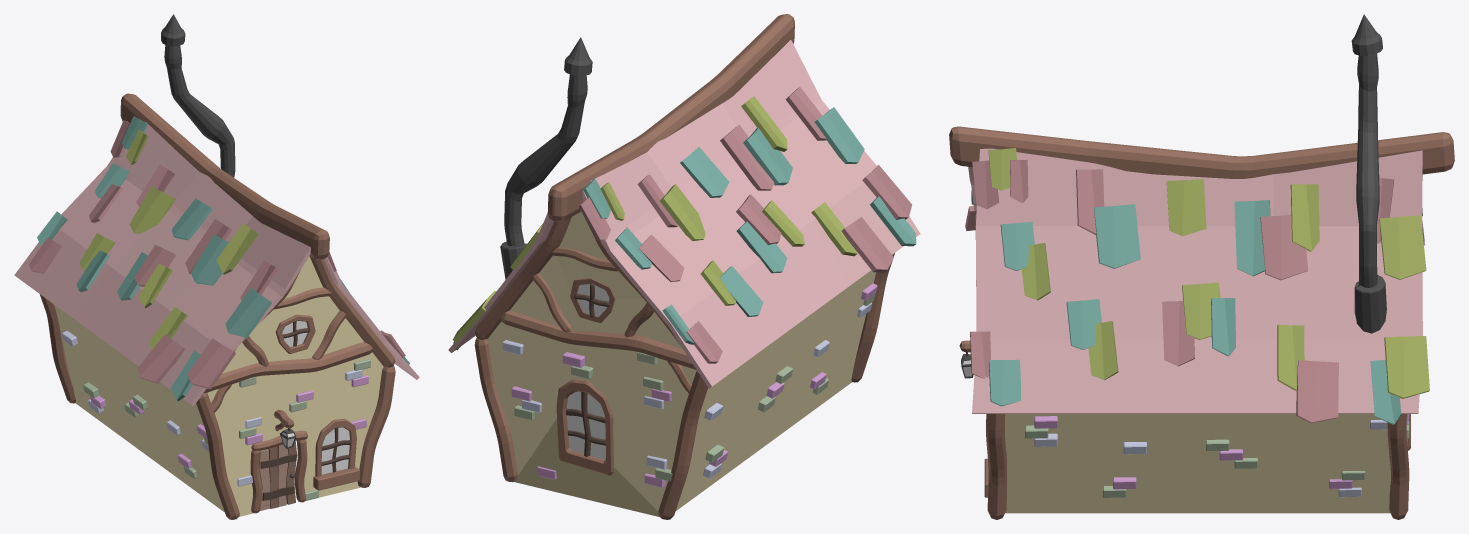
The model's file is WonkyCottage.fbx.
The picture shows the model from 3 angles, left to right: view 1: azimuth 30°, elevation 25°; view 2: azimuth 150°, elevation 25°; view 3: azimuth 270°, elevation 25°; orthographic projection. The views are drawn at different scales.
Parts seen in each view (by area): view 1: Plane.003, Plane.001, Plane.004, Cube.024, Cylinder, Cube.002, Cube.001, Cube, Cube.003, Cube.120, Cube.112, Cube.114 (+28 smaller); view 2: Plane.003, Plane.005, Plane.004, Cube.024, Cylinder, Cube.014, Cube.013, Plane.012, Cube.015, Cube.012, Plane.013, Cube.112 (+27 smaller); view 3: Plane, Plane.002, Cube.024, Cylinder, Cube.090, Cube.079, Cube.096, Cube.088, Cube.092, Cube.094, Cube.095, Cube (+18 smaller).
Part boxes in pixels (<box>): Plane.003: <box>14,122,310,406</box>; Plane.001: <box>207,256,383,516</box>; Plane.004: <box>54,305,224,512</box>; Cube.024: <box>120,93,329,259</box>; Cylinder: <box>161,14,235,177</box>; Cube.002: <box>205,342,373,392</box>; Cube.001: <box>196,393,239,519</box>; Cube: <box>357,365,395,487</box>; Cube.003: <box>310,257,395,367</box>; Cube.120: <box>187,338,235,389</box>; Cube.112: <box>137,334,184,383</box>; Cube.114: <box>225,288,271,338</box>; Plane.003: <box>582,40,920,388</box>; Plane.005: <box>487,211,696,516</box>; Plane.004: <box>676,270,876,510</box>; Cube.024: <box>547,14,794,221</box>; Cylinder: <box>500,37,592,279</box>; Cube.014: <box>500,310,696,369</box>; Cube.013: <box>658,370,708,519</box>; Plane.012: <box>556,379,613,475</box>; Cube.015: <box>475,217,571,339</box>; Cube.012: <box>474,338,517,482</box>; Plane.013: <box>566,391,605,459</box>; Cube.112: <box>841,217,893,272</box>; Plane: <box>972,148,1422,413</box>; Plane.002: <box>1005,414,1390,513</box>; Cube.024: <box>949,126,1454,178</box>; Cylinder: <box>1351,14,1386,333</box>; Cube.090: <box>1379,215,1426,279</box>; Cube.079: <box>1094,204,1140,268</box>; Cube.096: <box>1384,336,1429,398</box>; Cube.088: <box>1296,360,1338,423</box>; Cube.092: <box>1260,215,1308,280</box>; Cube.094: <box>1234,200,1270,276</box>; Cube.095: <box>1166,179,1206,236</box>; Cube: <box>986,414,1006,519</box>.
Size of the model in its own units: 361 by 525 by 504.
